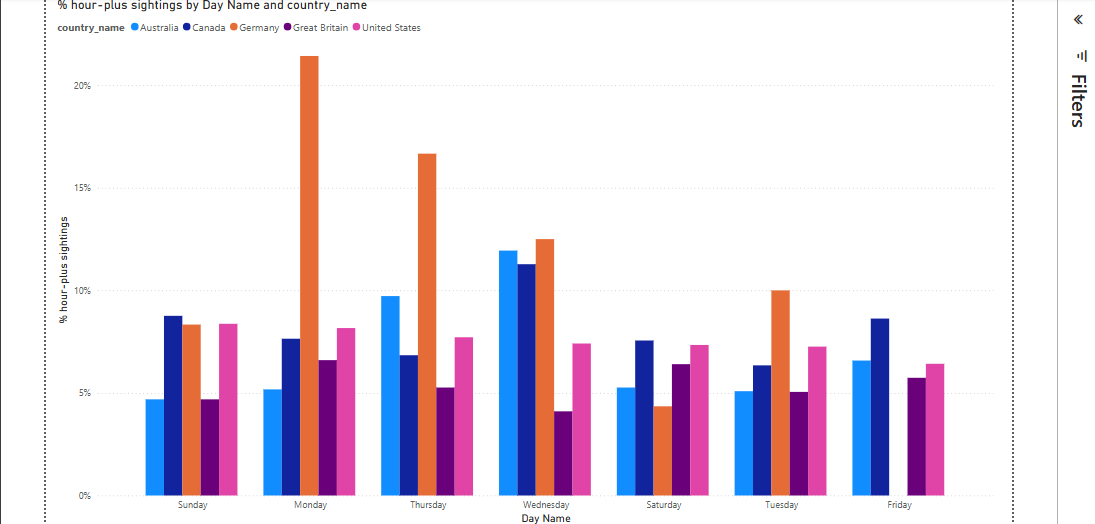

This screenshot's page, from the dashboard's own definition file:
{"tool":"powerbi","page":{"name":"Column Chart","canvas":[1280,720],"ordinal":2},"visuals":[{"type":"clusteredColumnChart","fields":{"Y":["UFO Sightings.% hour-plus sightings"],"Category":["UFO Sightings.Day Name"],"Series":["UFO Sightings.country_name"]},"box":[9.5,0,1250.9,704.1],"z":0}]}

Visuals, with their boxes on the page's 1280x720 design canvas (x1, y1, x2, y2). These are canvas units, not pixel positions in the 1095x524 screenshot, which may show the page scaled, cropped or inside an application window:
clusteredColumnChart - UFO Sightings.% hour-plus sightings x UFO Sightings.Day Name: x1=10 y1=0 x2=1260 y2=704
